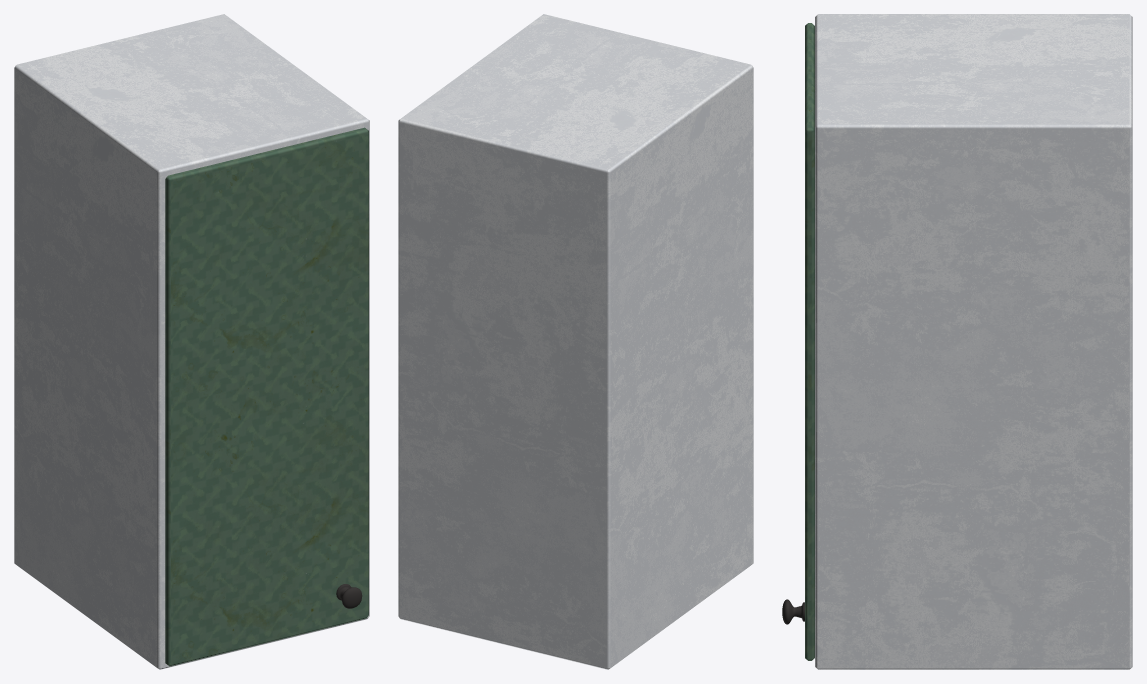
Rendered from Cabinet_A_4.fbx.
3 views of the same model, side by side, from view 1: azimuth 30°, elevation 25°; view 2: azimuth 150°, elevation 25°; view 3: azimuth 270°, elevation 25° (orthographic). The views are drawn at different scales.
Visible parts, largest first — view 1: Cabinet_A_4, Cabinet_A_4_Drawer; view 2: Cabinet_A_4; view 3: Cabinet_A_4, Cabinet_A_4_Drawer.
Part boxes in pixels (x1=…): Cabinet_A_4: x1=14, y1=14, x2=369, y2=669; Cabinet_A_4_Drawer: x1=165, y1=127, x2=368, y2=666; Cabinet_A_4: x1=398, y1=14, x2=753, y2=669; Cabinet_A_4: x1=815, y1=14, x2=1132, y2=669; Cabinet_A_4_Drawer: x1=782, y1=23, x2=814, y2=660.
Size of the model in its own units: 40 by 90 by 52.39.
